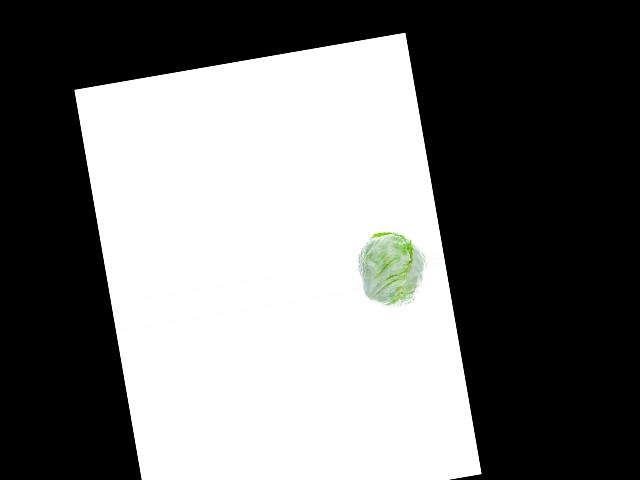lettuce: (356, 227, 431, 310)
